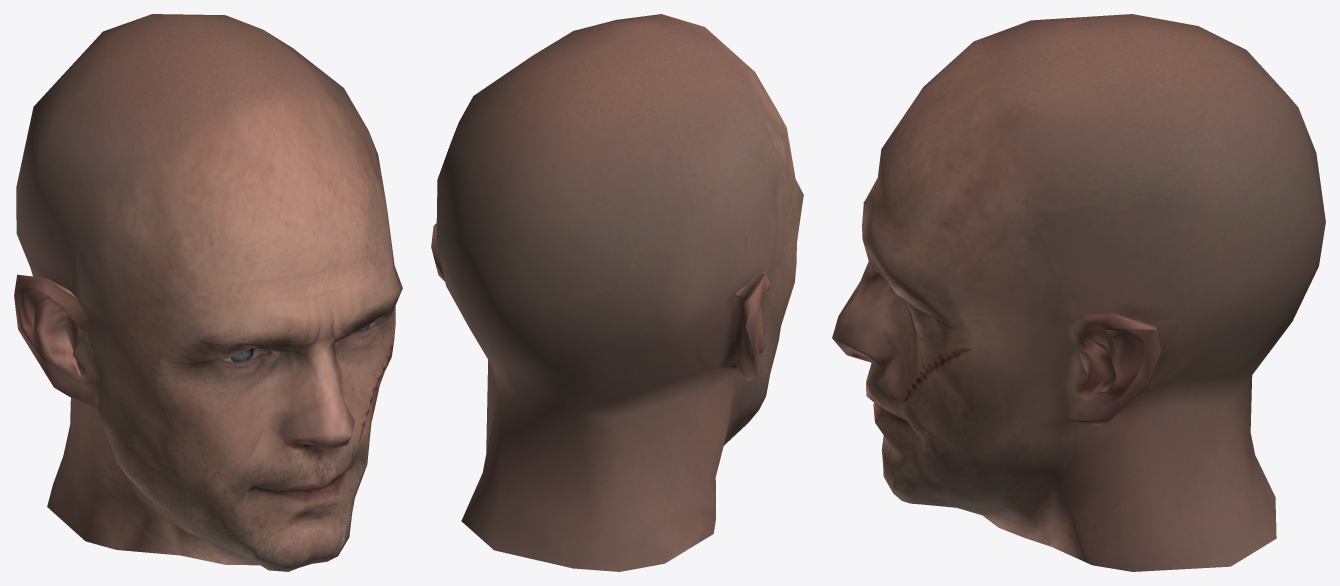
Rendered from head_1k.glb.
3 views of the same model, side by side, from view 1: azimuth 30°, elevation 25°; view 2: azimuth 150°, elevation 25°; view 3: azimuth 270°, elevation 25° (orthographic). The views are drawn at different scales.
Visible parts, largest first — view 1: mesh_node_Default; view 2: mesh_node_Default; view 3: mesh_node_Default.
Boxes of the visible parts, x1=… form: mesh_node_Default: x1=14, y1=14, x2=402, y2=571; mesh_node_Default: x1=431, y1=14, x2=803, y2=571; mesh_node_Default: x1=832, y1=14, x2=1325, y2=571.
Size of the model in its own units: 0.9951 by 1.37 by 1.25.
1 material, 1 textured.
